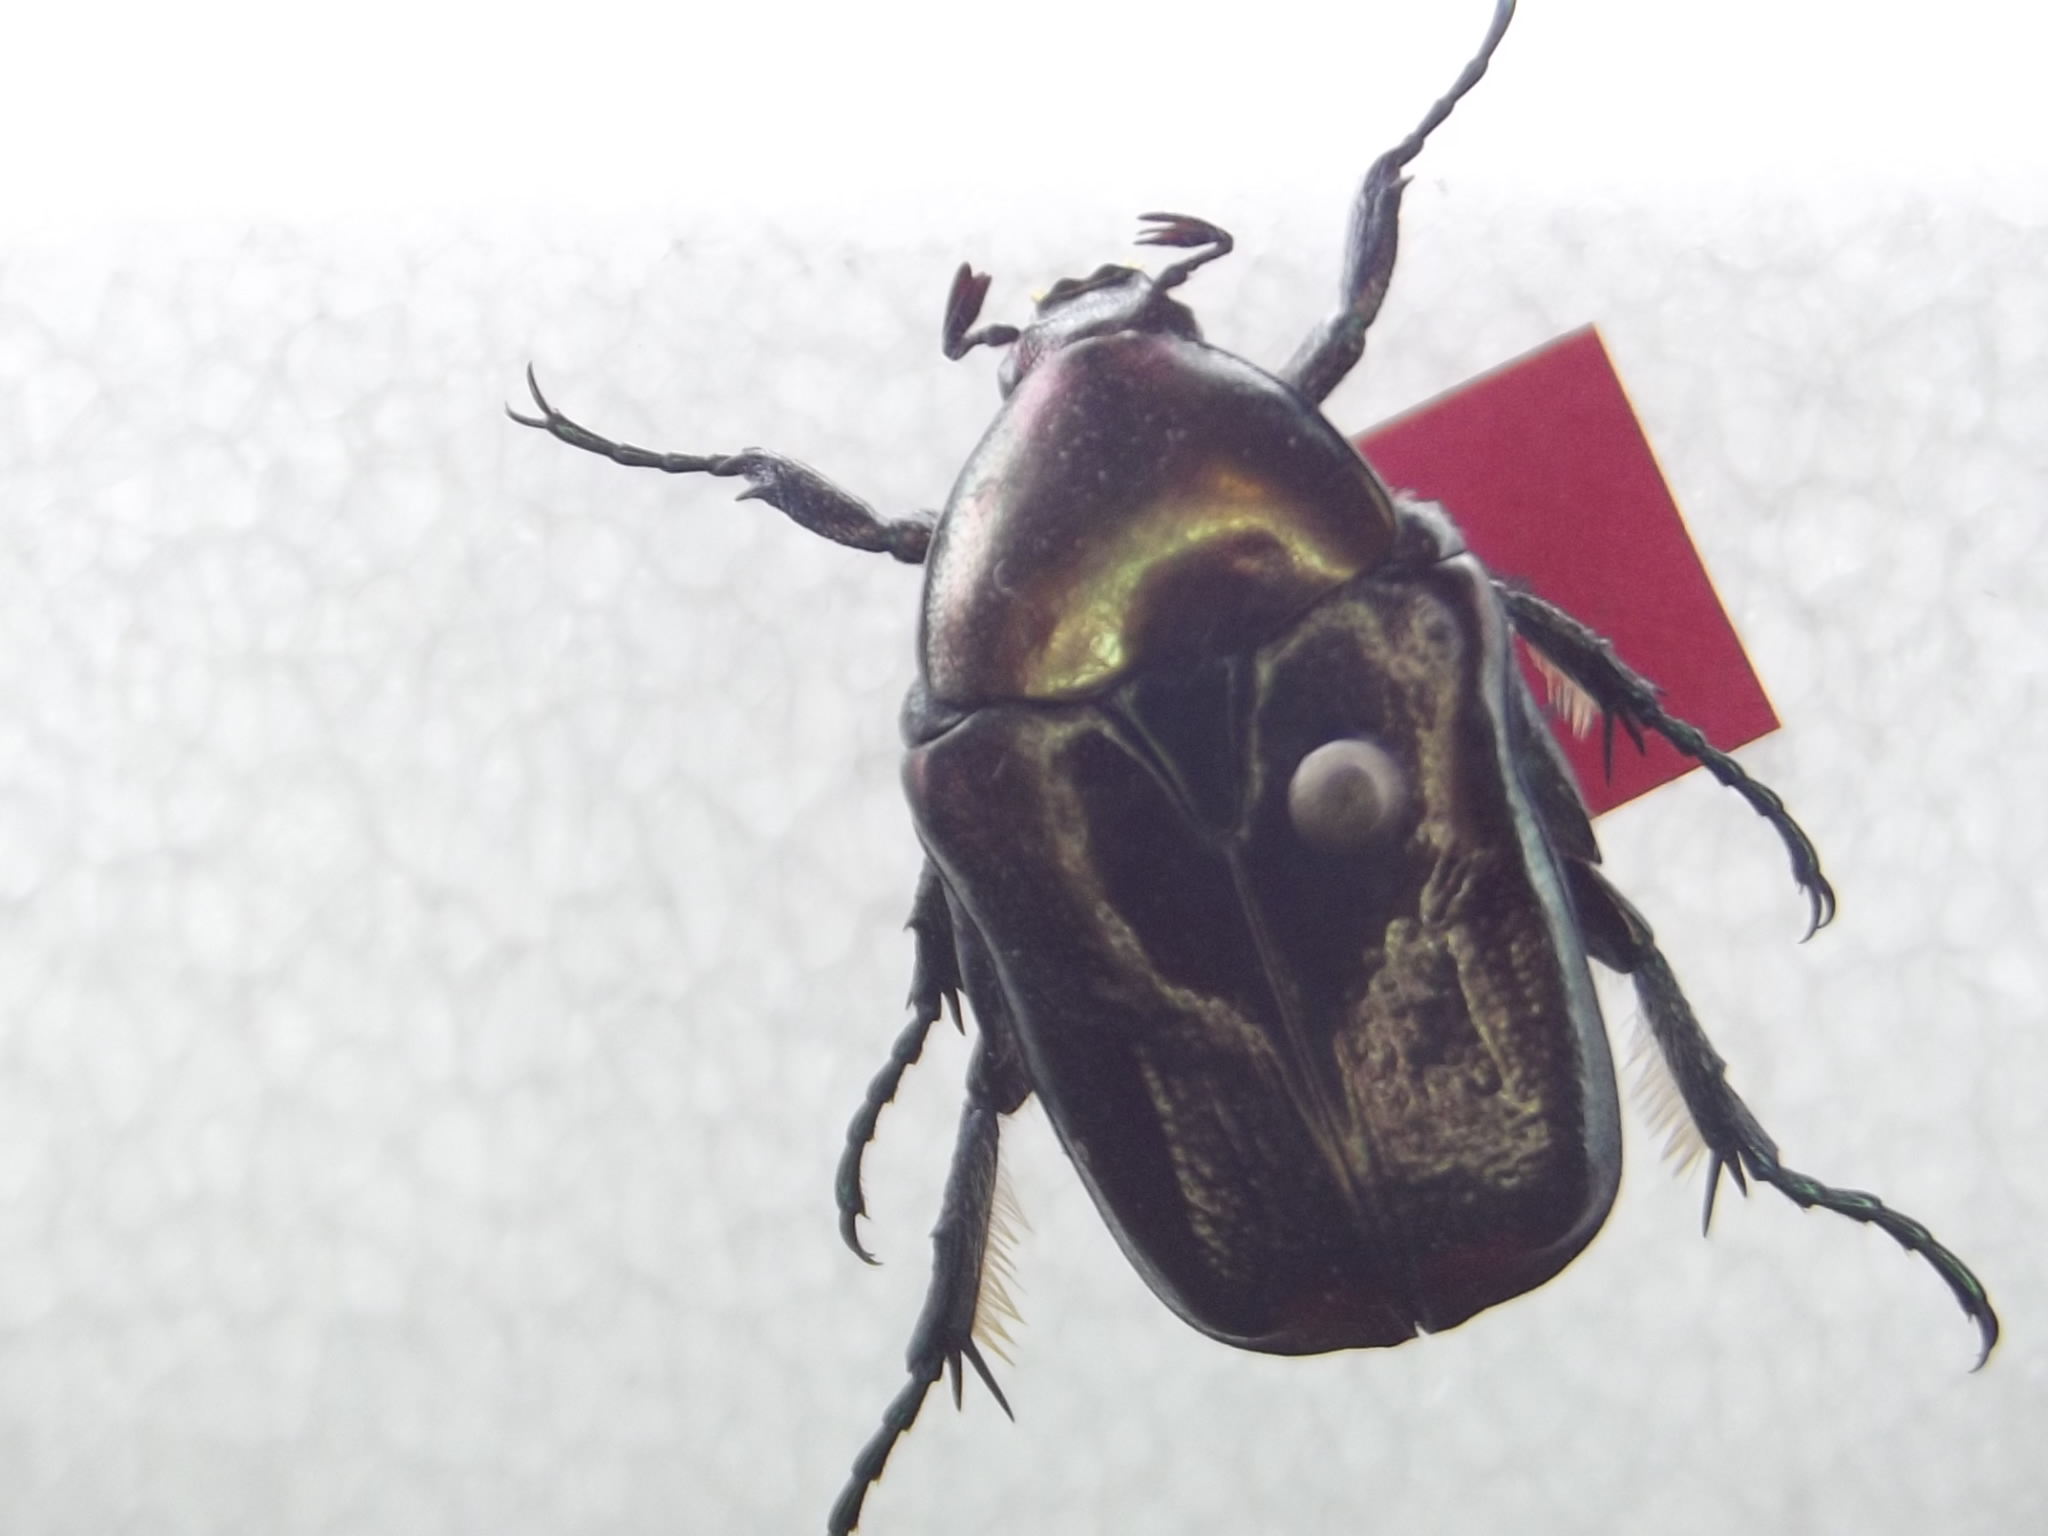Protaetia_besucheti: (508, 13, 2021, 1534)
